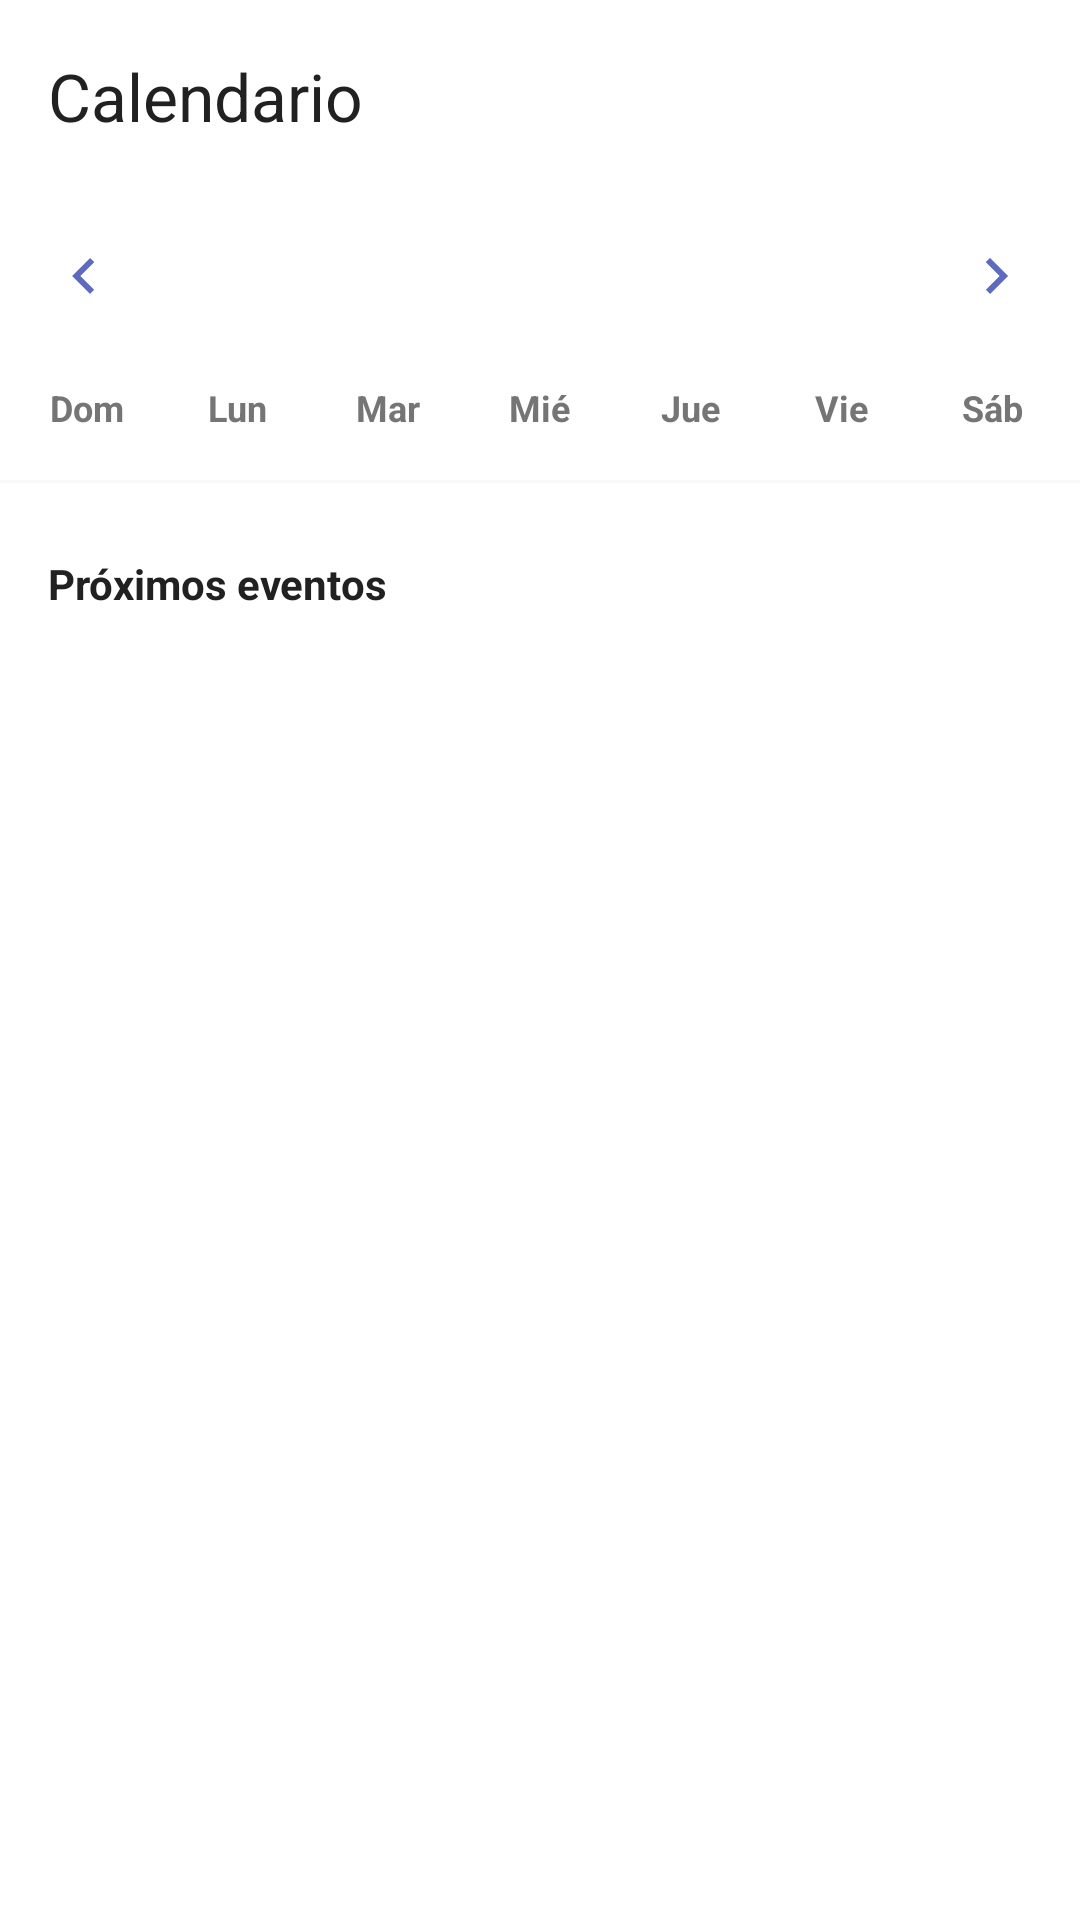

Screen size 1080*1920. Icon name, then its box in pixels as (x1, y1, x2, y2):
Mes anterior: (72, 258, 94, 294)
Mes siguiente: (986, 258, 1008, 294)
